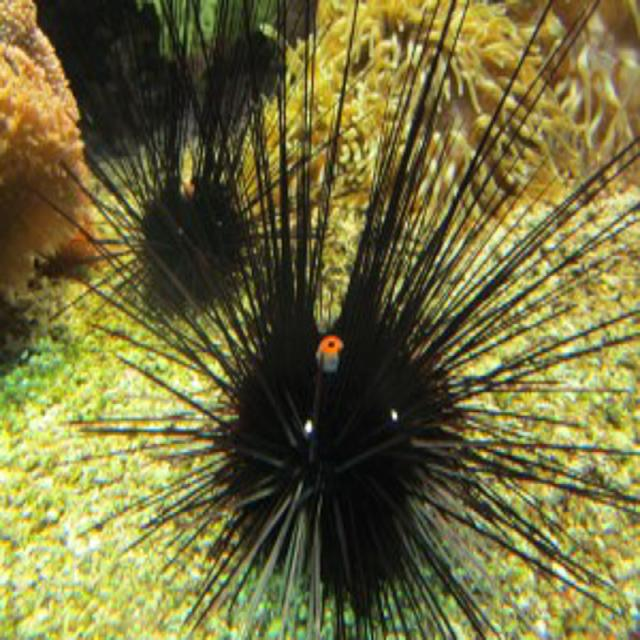Urchin: (126, 9, 633, 635), (53, 17, 308, 324)
